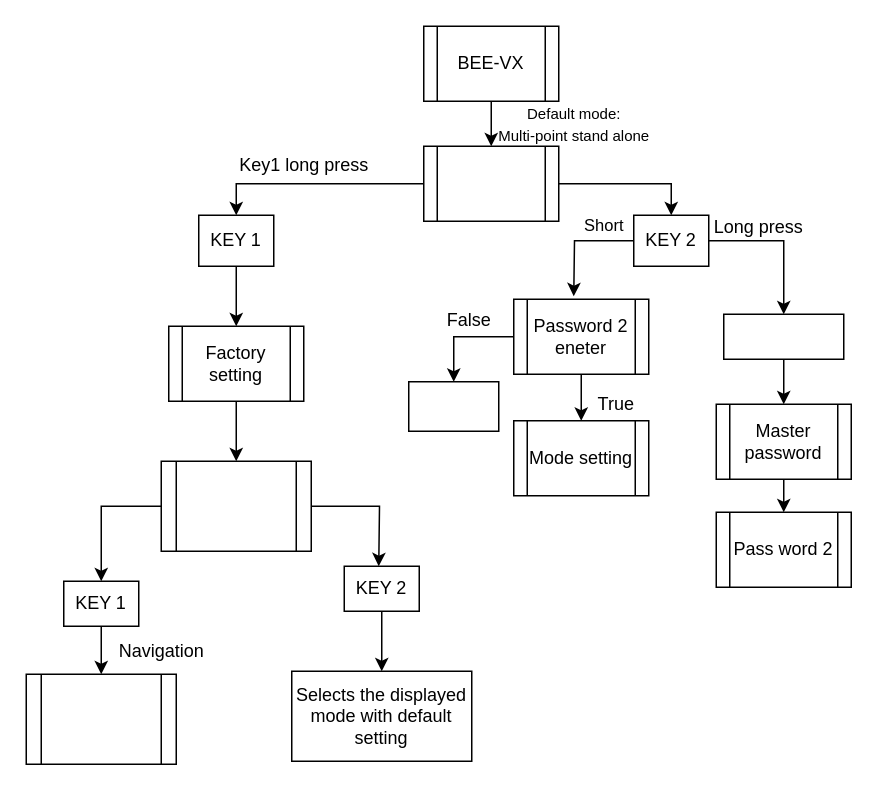
Image size: 878x791. Some labels were removed from this diagram. Here are the shapes that lost their labels. From the top down, the centre of each, then its label:
(x=490, y=183): MP-SA
(x=783, y=336): Password 2 reset
(x=453, y=405): Home screen
(x=235, y=505): Current working mode eg:MP-SA
(x=100, y=718): Different Modes
